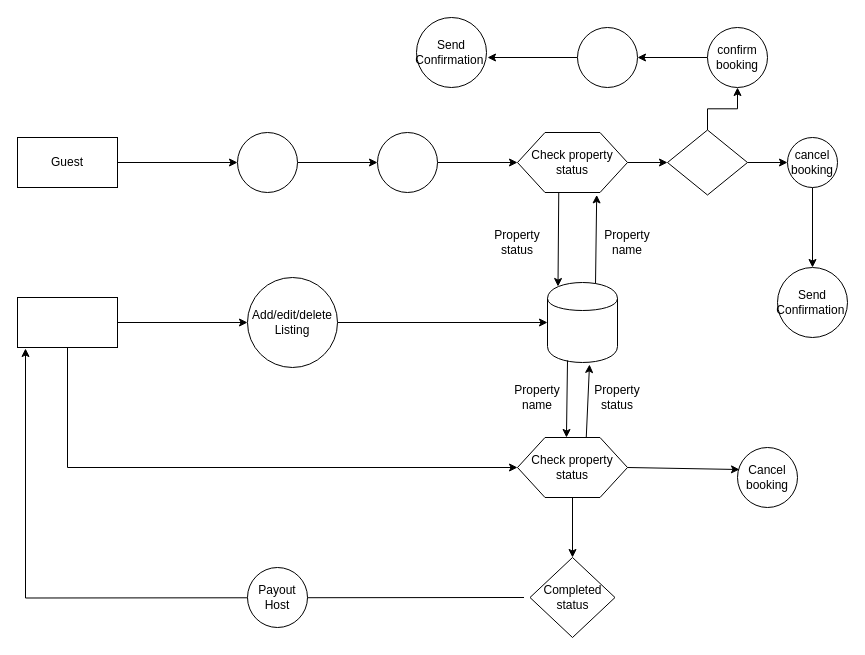
This 865x655 diagram has some shape labels left out. Here are the shapes that lost their labels. From the top down, the centre of each, then its label:
At point 607,57: "Make payment".
At point 267,162: "Search for listings".
At point 407,162: "Book a property".
At point 707,162: "Property available".
At point 67,322: "Host".
At point 582,322: "Properties".
